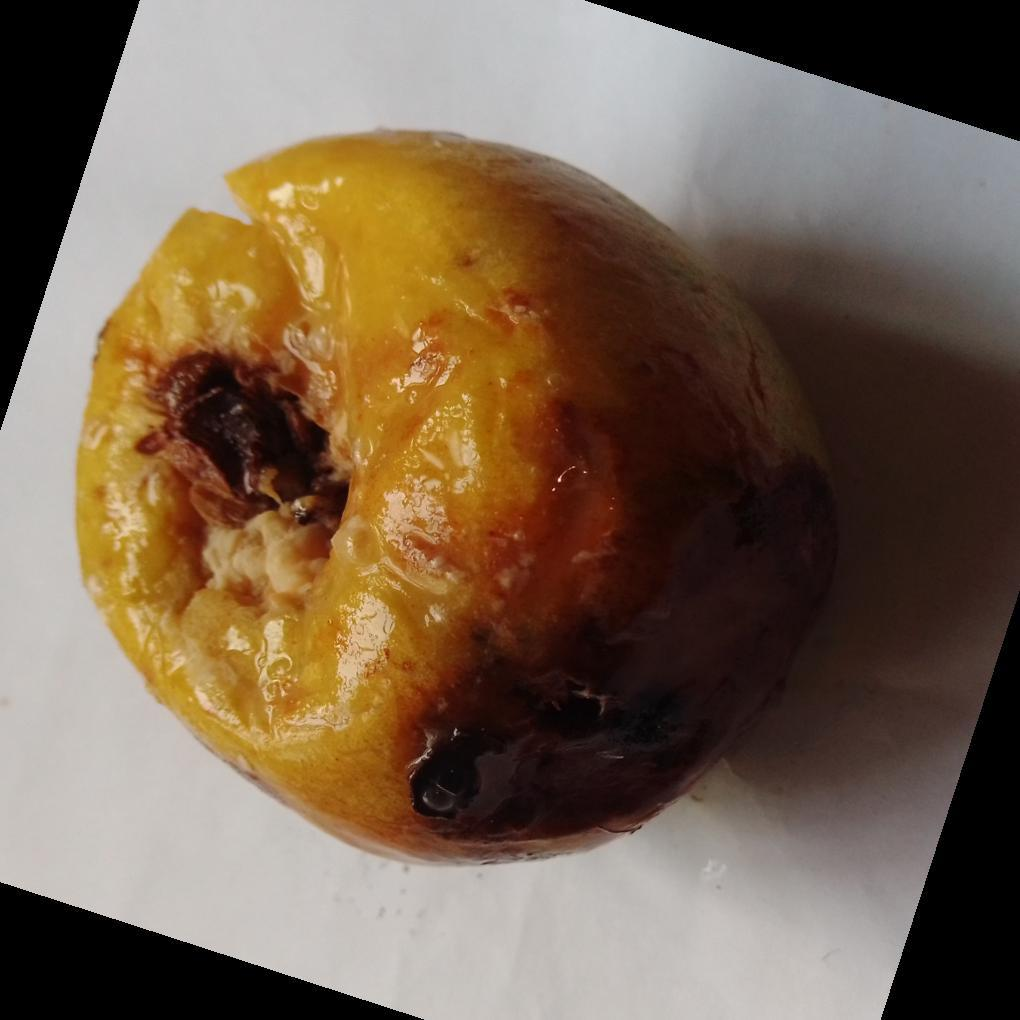FreshOrange: (72, 131, 840, 871)
